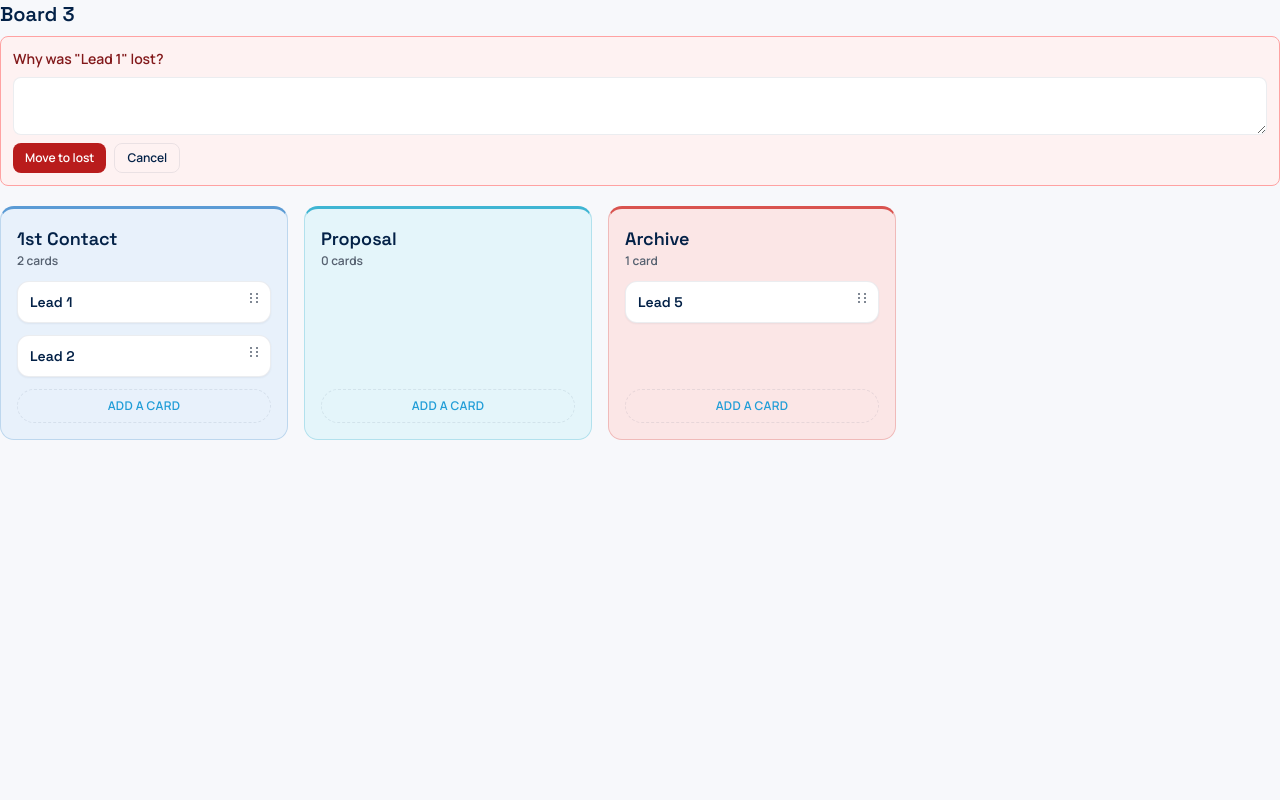
Test: moving a card into the lost stage › shows the backend's validation error, keeps the card in its stage and keeps what was typed
The width and height of the screenshot is (1280, 800).
Expected: the text "Lead 1" is shown, [30,293,72,311]
Type "Too much" into the text box labelled "Why was \"Lead 1\" lost?" at (640, 106), box [13,77,1267,135]
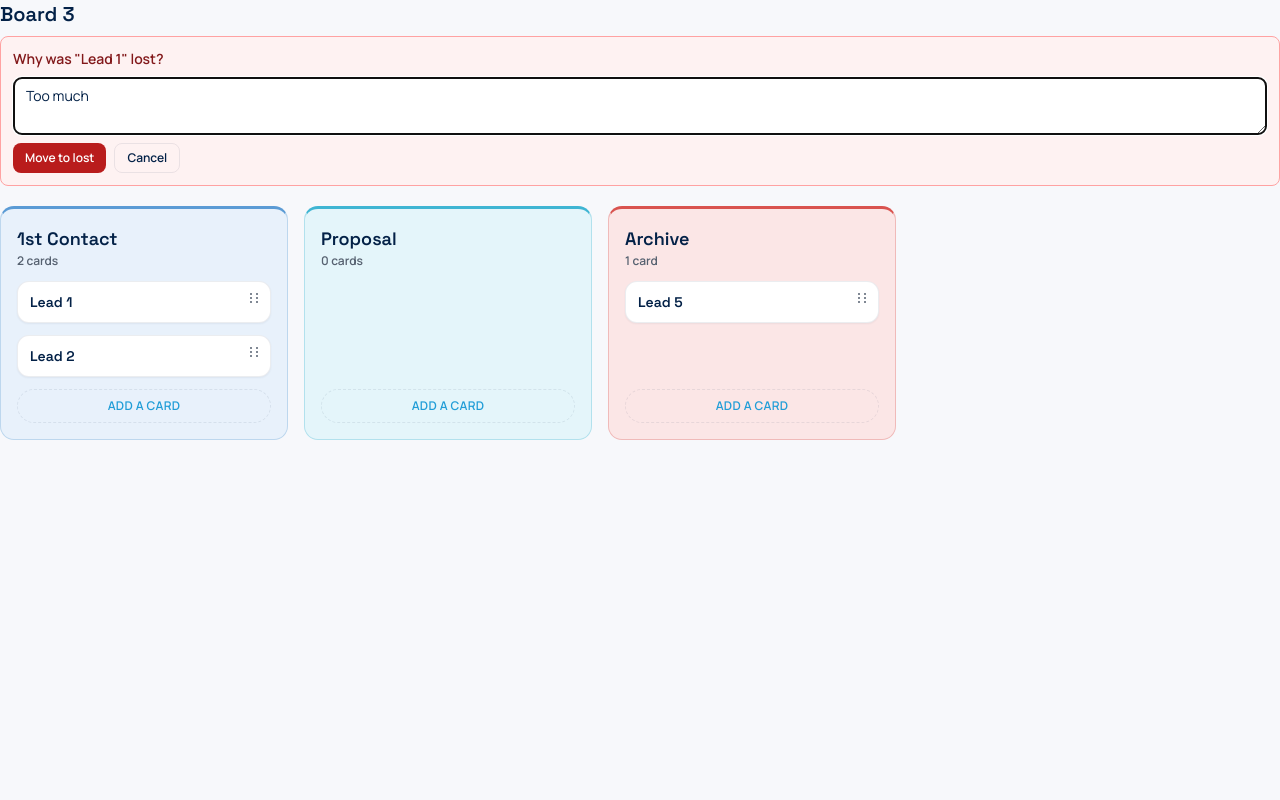
Click the button "Move to lost" at (60, 158), box [13,143,106,173]
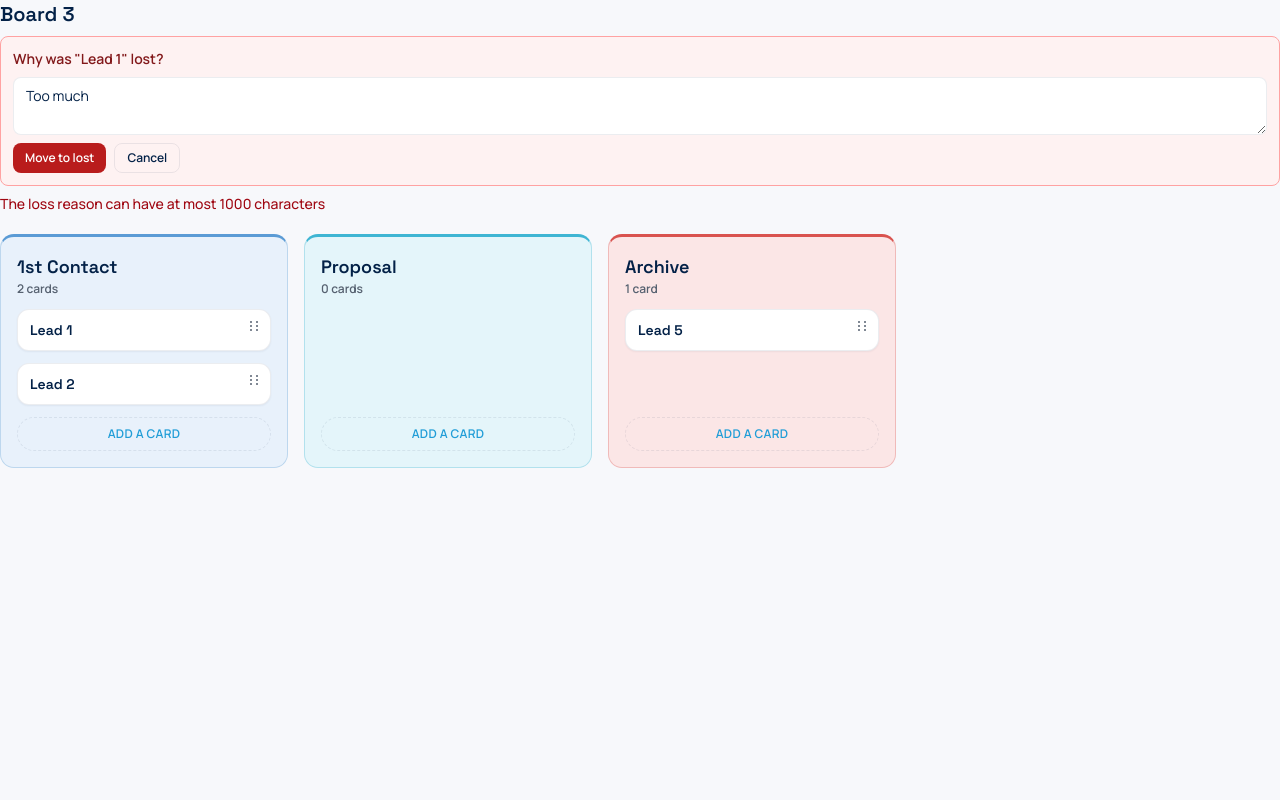
Expected: the message with test id "move-error" shows "at most 1000 characters", [0,194,325,213]
